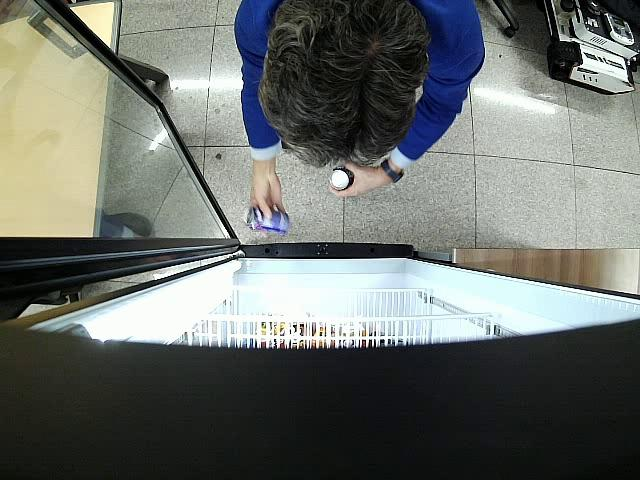00_hand: (250, 163, 286, 238), (328, 164, 383, 198)
14_welchsGrape: (242, 207, 292, 234)
